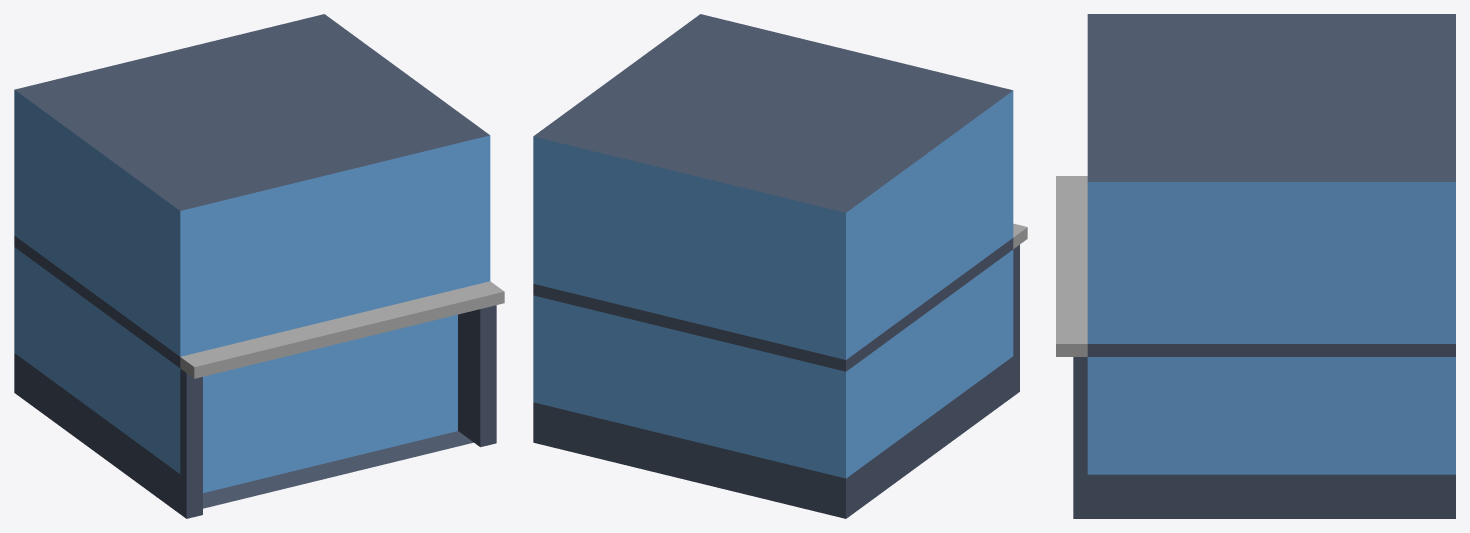
Rendered from building_1x1_7_g.glb.
3 views of the same model, side by side, from view 1: azimuth 30°, elevation 25°; view 2: azimuth 150°, elevation 25°; view 3: azimuth 270°, elevation 25° (orthographic). The views are drawn at different scales.
Visible parts, largest first — view 1: Cube; view 2: Cube; view 3: Cube.
Boxes of the visible parts, bbox=[...] form: Cube: bbox=[14, 14, 504, 518]; Cube: bbox=[533, 14, 1027, 518]; Cube: bbox=[1056, 14, 1455, 518].
Bounding box in the file's own units: 1.72 × 1.61 × 1.73.
